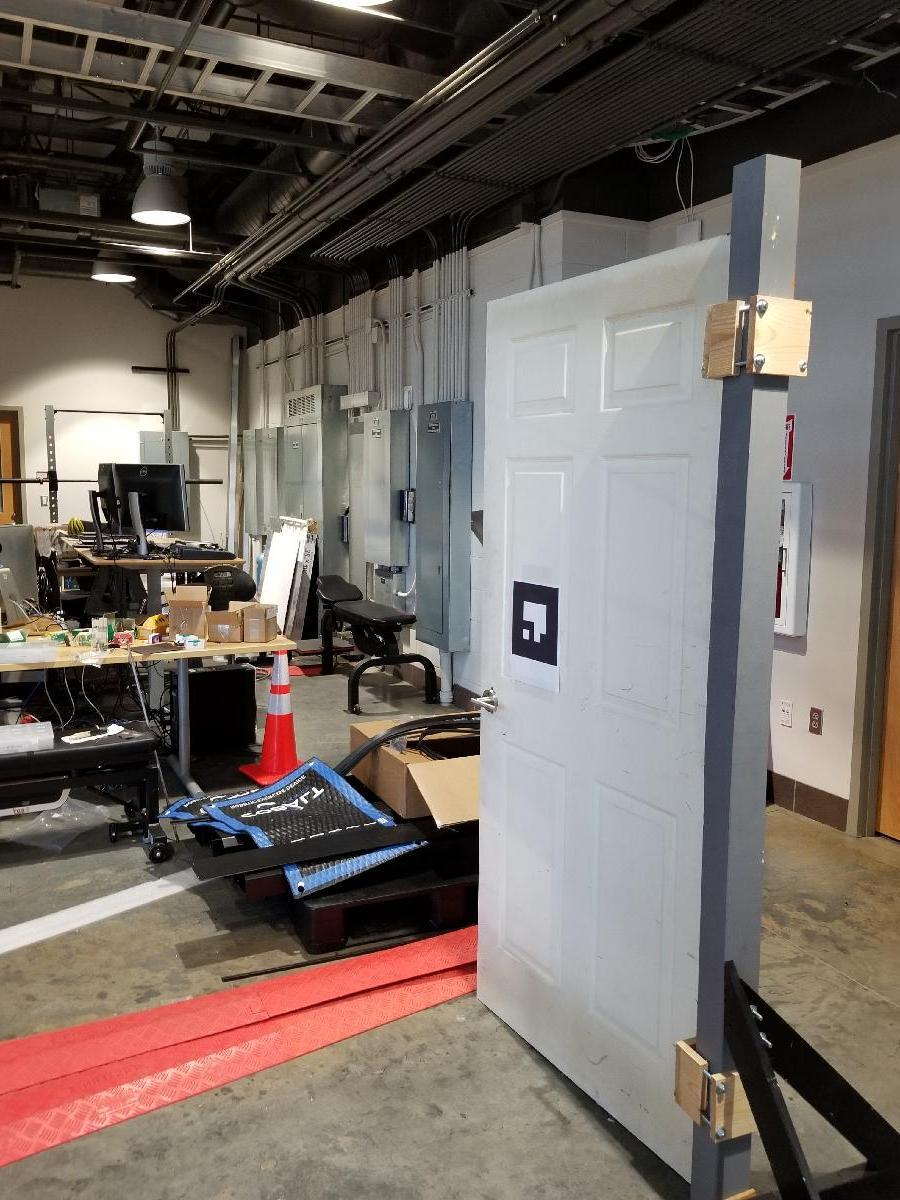door: (475, 233, 724, 1107)
handle: (470, 678, 509, 721)
